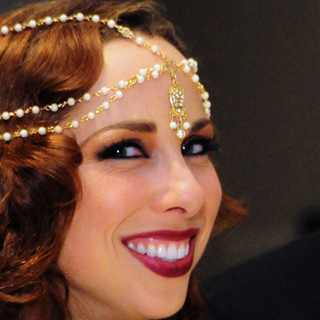eye: (97, 138, 148, 166), (178, 133, 217, 163)
